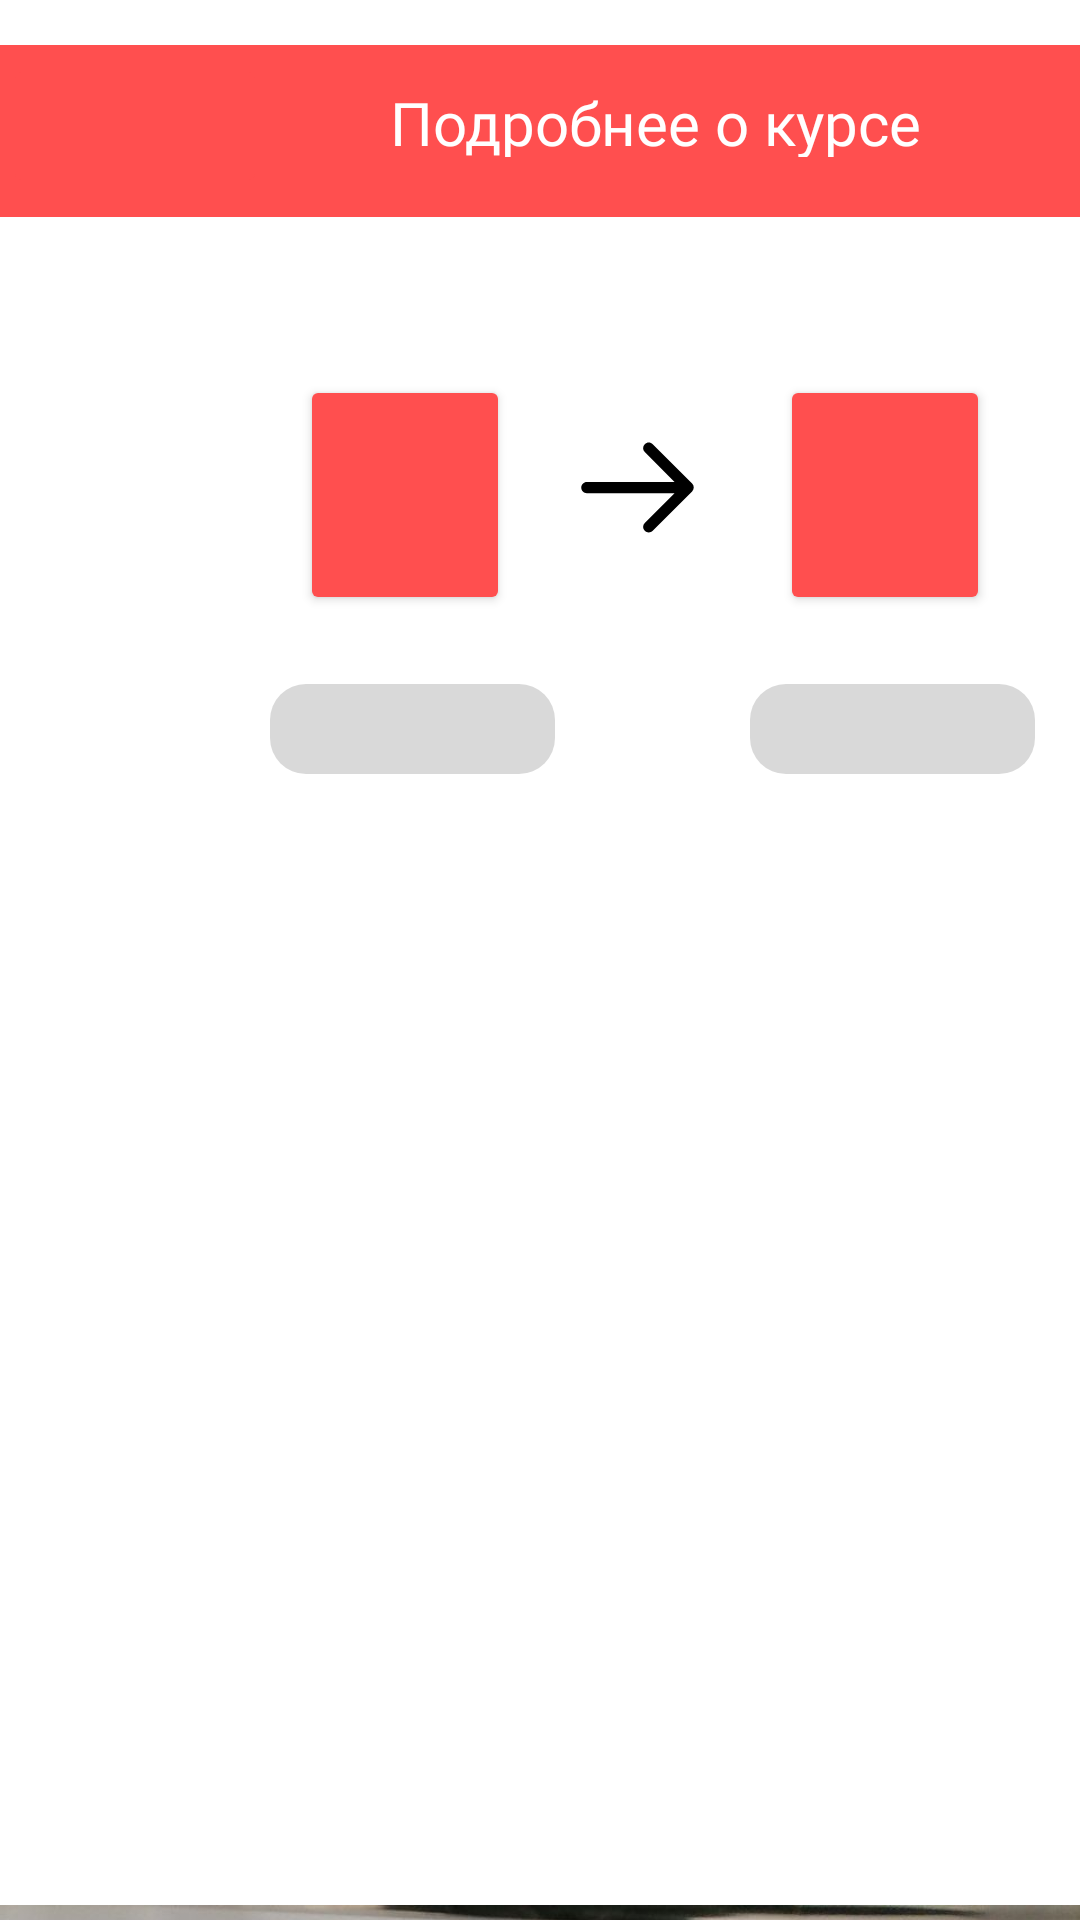

Named icons in this screenshot (1080 x 1920) and their centers, [x,y]:
arrow right: [637,487]
